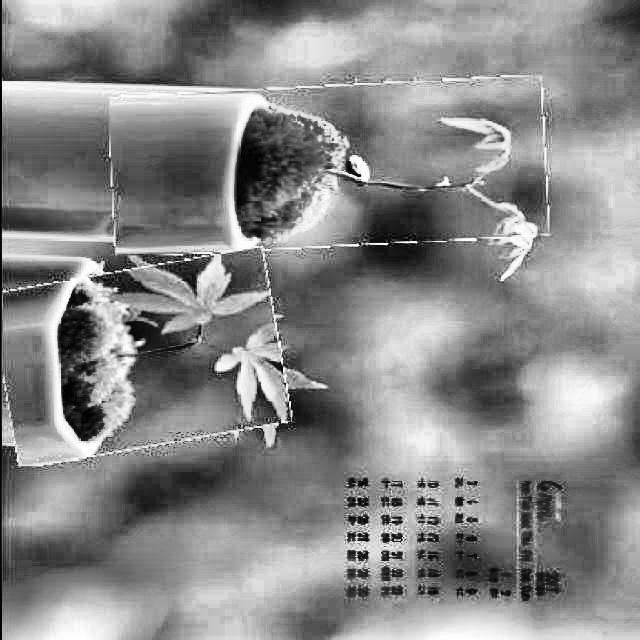plants: (108, 81, 544, 252), (2, 256, 284, 458)
